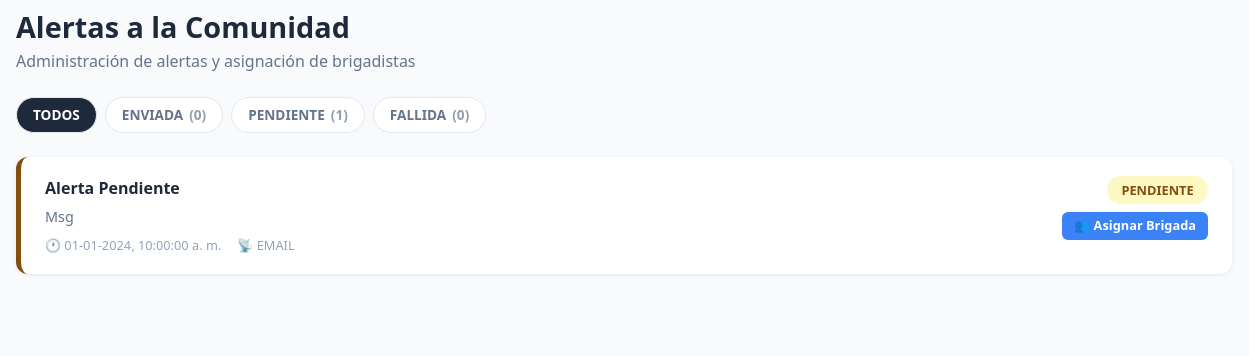
Test: Alertas — asignación de brigadistas (ADMINISTRADOR) › muestra mensaje de éxito tras asignar brigadistas correctamente
Click the button "👥 Asignar Brigada" at (1135, 226), box [1062,212,1208,240]
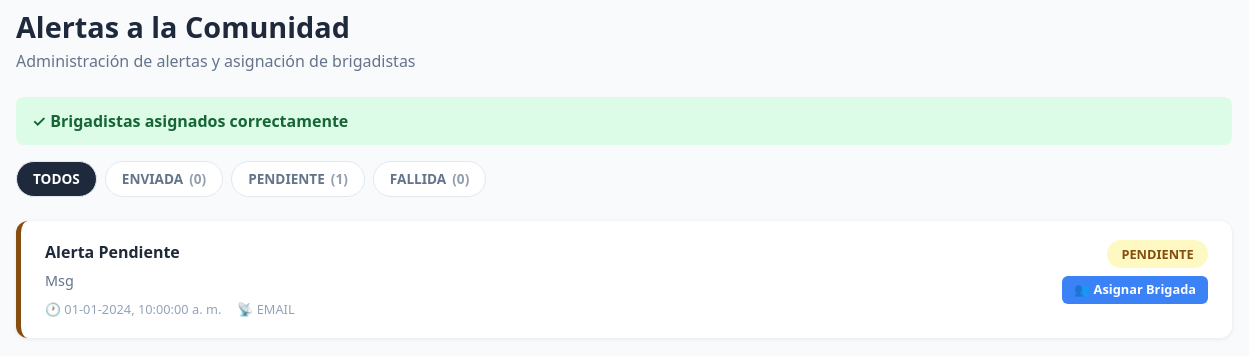
Expected: the text "✓ Brigadistas asignados correctamente" is shown, [16,97,1232,145]
